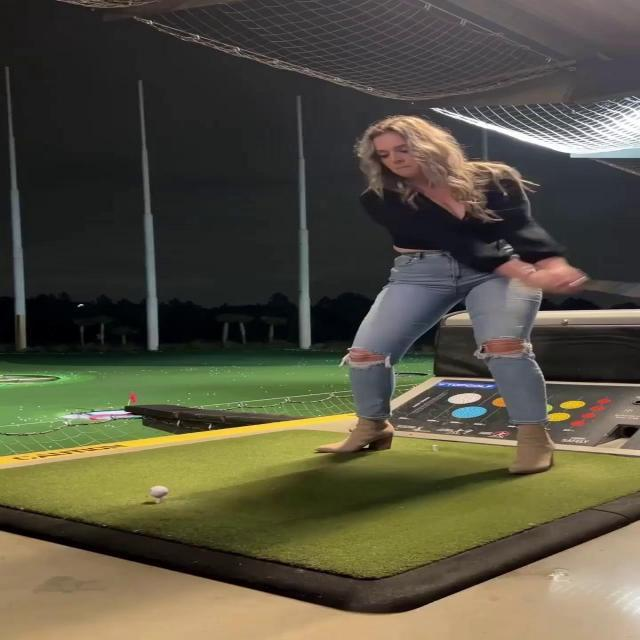golf ball: (150, 483, 172, 497)
golf club-handle: (545, 272, 640, 308)
